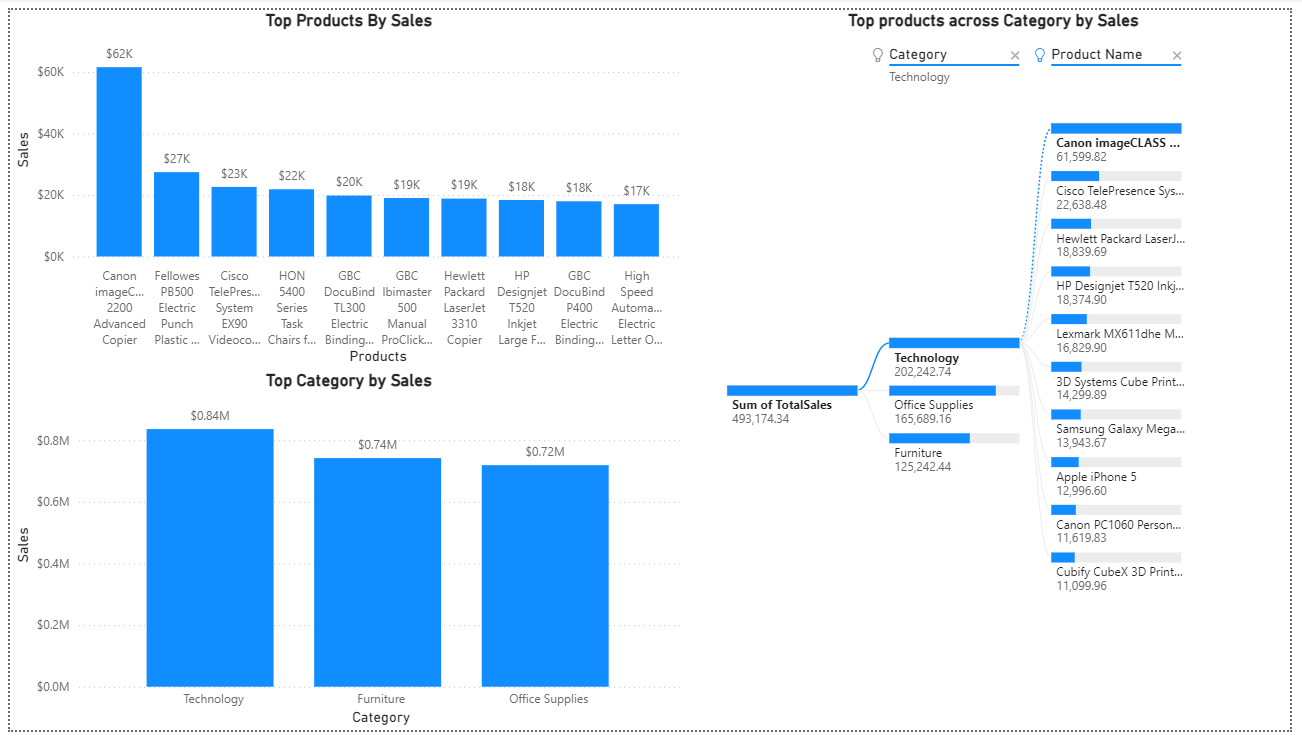

This screenshot's page, from the dashboard's own definition file:
{"tool":"powerbi","page":{"name":"Top selling products and category","canvas":[1280,720],"ordinal":0},"visuals":[{"type":"clusteredColumnChart","title":"Top Products By Sales","fields":{"Y":["Sum(Orders.Sales)"],"Category":["Orders.Product Name"]},"box":[0,0,678,359.5],"z":0},{"type":"clusteredColumnChart","title":"Top Category by Sales","fields":{"Y":["Sum(Orders.Sales)"],"Category":["Orders.Category"]},"box":[0,359.5,678,360.7],"z":1000},{"type":"decompositionTreeVisual","title":"Top products across Category by Sales","fields":{"ExplainBy":["Table1.Category","Table1.Product Name"],"Analyze":["Sum(Table1.TotalSales)"]},"box":[687.9,0,592.1,720.3],"z":2000}]}

Visuals, with their boxes in screenshot pixels (x1, y1, x2, y2), scaled from the page's 1280x720 canvas onto the 1302x741 screenshot:
"Top Products By Sales" clusteredColumnChart: l=0, t=0, r=690, b=370
"Top Category by Sales" clusteredColumnChart: l=0, t=370, r=690, b=740
"Top products across Category by Sales" decompositionTreeVisual: l=700, t=0, r=1301, b=740
